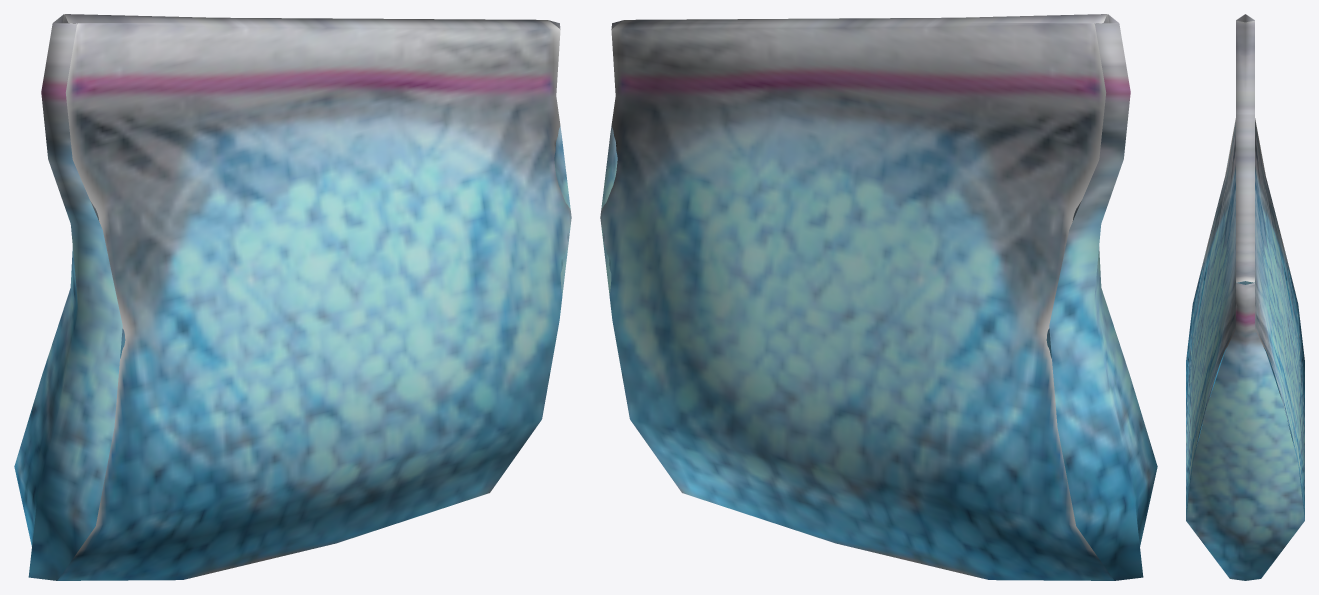
File: fentanyl.FBX
3 views of the same model, side by side, from view 1: azimuth 30°, elevation 25°; view 2: azimuth 150°, elevation 25°; view 3: azimuth 270°, elevation 25° (orthographic). The views are drawn at different scales.
Parts seen in each view (by area): view 1: fentanyl; view 2: fentanyl; view 3: fentanyl.
Part boxes in pixels (x1,y1,x2,y2): fentanyl: (14, 14, 571, 580); fentanyl: (600, 14, 1157, 580); fentanyl: (1186, 14, 1304, 580).
Bounding box in the file's own units: 22.34 × 23.27 × 5.93.
